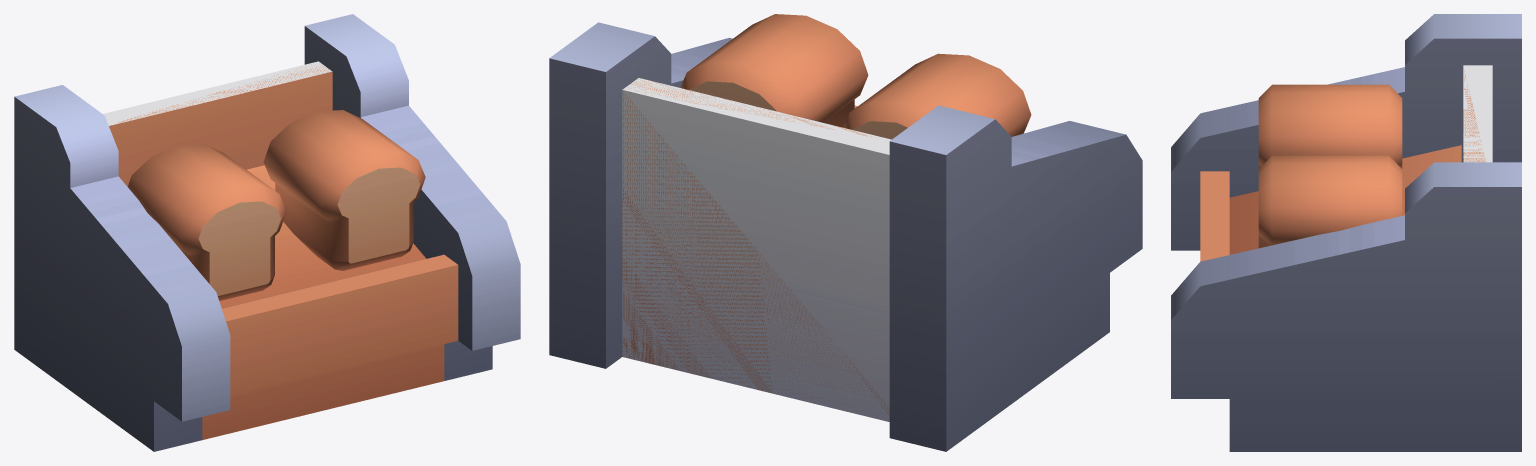
Rendered from kenney-mini-market-display-bread.glb.
3 renders of one model, left to right at view 1: azimuth 30°, elevation 25°; view 2: azimuth 150°, elevation 25°; view 3: azimuth 270°, elevation 25°, orthographic. The views are drawn at different scales.
Parts seen in each view (by area): view 1: display-bread, bread (×2); view 2: display-bread, bread (×2); view 3: display-bread, bread (×2).
Boxes of the visible parts, box(x1,y1,x2,y2) form: display-bread: box(14, 14, 520, 451); bread (×2): box(127, 110, 425, 300); display-bread: box(549, 22, 1142, 451); bread (×2): box(680, 14, 1031, 139); display-bread: box(1171, 14, 1521, 451); bread (×2): box(1258, 84, 1402, 248).
Bounding box in the file's own units: 0.7 × 0.5 × 0.6.
1 material, 1 textured.
